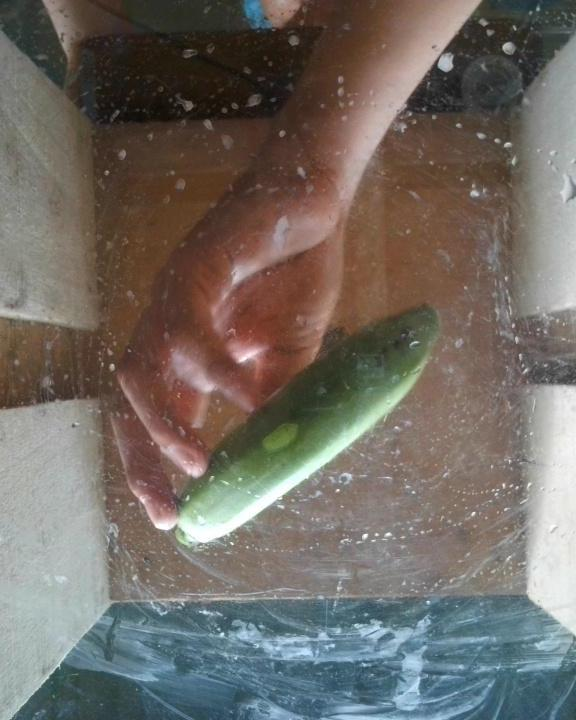CLASS B: (164, 298, 453, 558)
Class A: (369, 322, 425, 379)
